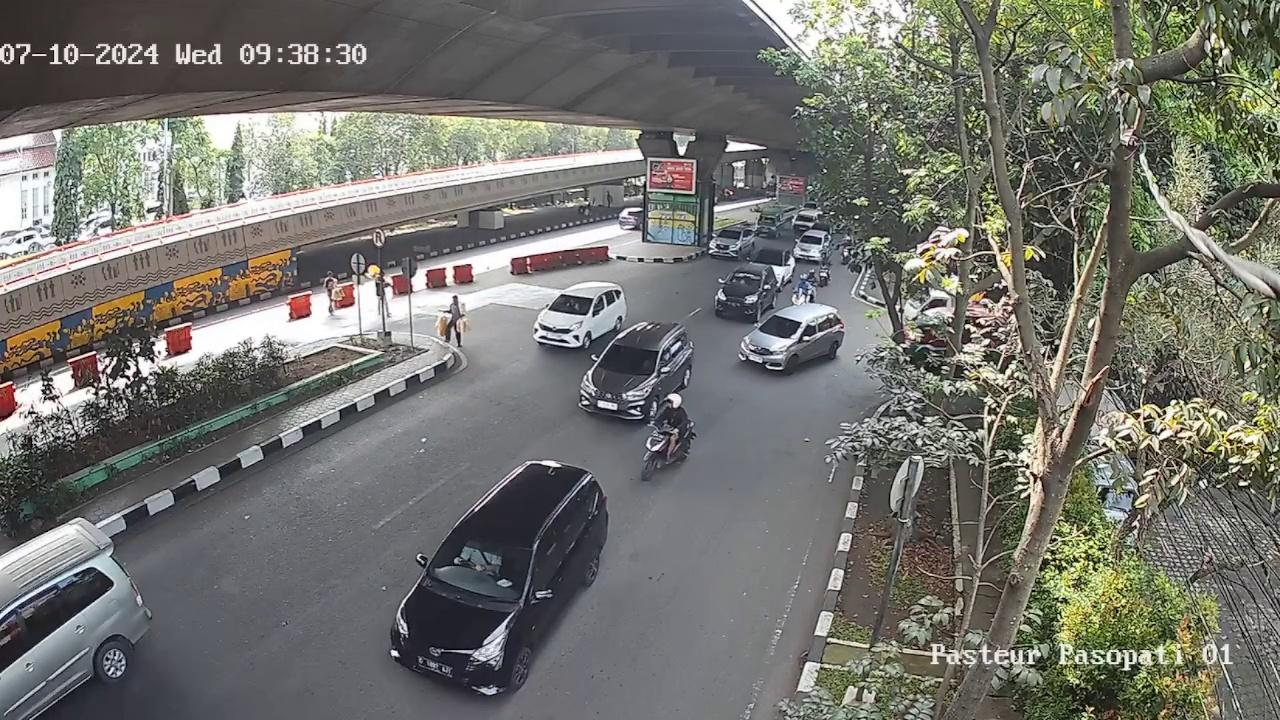pakai: (460, 537, 506, 584)
windshield: (433, 525, 540, 603), (598, 347, 658, 376), (760, 312, 802, 339), (547, 294, 591, 314), (728, 270, 766, 289)
